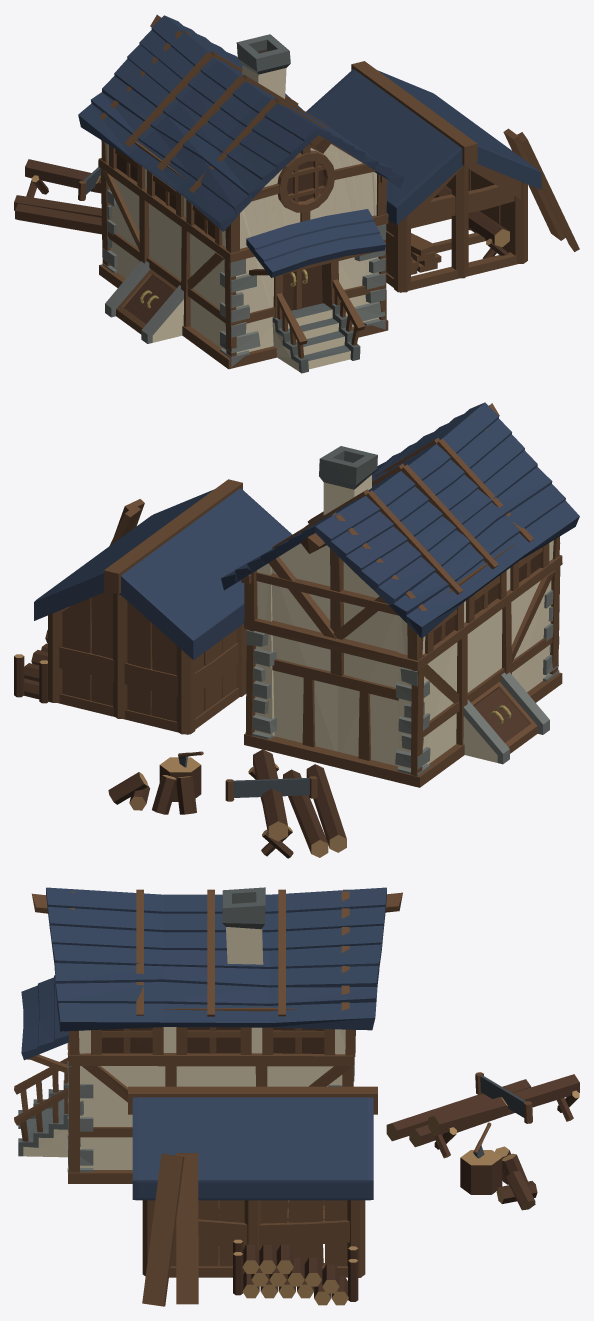
File: LumberMill_Construction_BLU.glb
3 views of the same model, one above another, from view 1: azimuth 30°, elevation 25°; view 2: azimuth 150°, elevation 25°; view 3: azimuth 270°, elevation 25° (orthographic). The views are drawn at different scales.
Parts seen in each view (by area): view 1: Stage_04_Roofed, Stage_05_Complete, Stage_03_RoofFrame, Stage_02_FirstFloor, Stage_01_Foundation; view 2: Stage_05_Complete, Stage_04_Roofed, Stage_03_RoofFrame, Stage_02_FirstFloor, Stage_01_Foundation; view 3: Stage_04_Roofed, Stage_05_Complete, Stage_03_RoofFrame, Stage_02_FirstFloor, Stage_01_Foundation.
Boxes of the visible parts, x1=… form: Stage_04_Roofed: x1=78, y1=15, x2=541, y2=277; Stage_05_Complete: x1=14, y1=34, x2=575, y2=371; Stage_03_RoofFrame: x1=14, y1=14, x2=579, y2=360; Stage_02_FirstFloor: x1=98, y1=158, x2=527, y2=373; Stage_01_Foundation: x1=99, y1=216, x2=517, y2=369; Stage_05_Complete: x1=14, y1=446, x2=559, y2=857; Stage_04_Roofed: x1=34, y1=402, x2=579, y2=847; Stage_03_RoofFrame: x1=15, y1=403, x2=561, y2=858; Stage_02_FirstFloor: x1=52, y1=555, x2=562, y2=776; Stage_01_Foundation: x1=58, y1=672, x2=562, y2=787; Stage_04_Roofed: x1=21, y1=887, x2=531, y2=1199; Stage_05_Complete: x1=23, y1=887, x2=578, y2=1306; Stage_03_RoofFrame: x1=26, y1=889, x2=579, y2=1304; Stage_02_FirstFloor: x1=14, y1=1053, x2=364, y2=1264; Stage_01_Foundation: x1=68, y1=1148, x2=361, y2=1277.
Size of the model in its own units: 10.29 by 5.71 by 10.76.
1 material, 1 textured.
